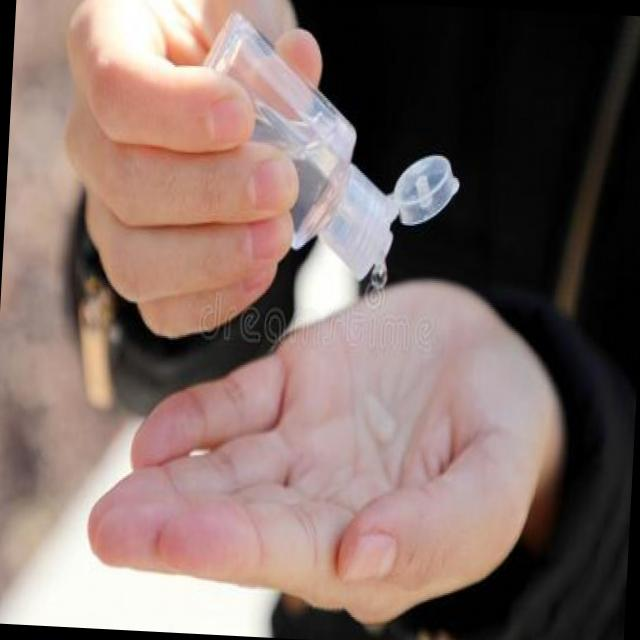sanitizer: (203, 8, 465, 294)
